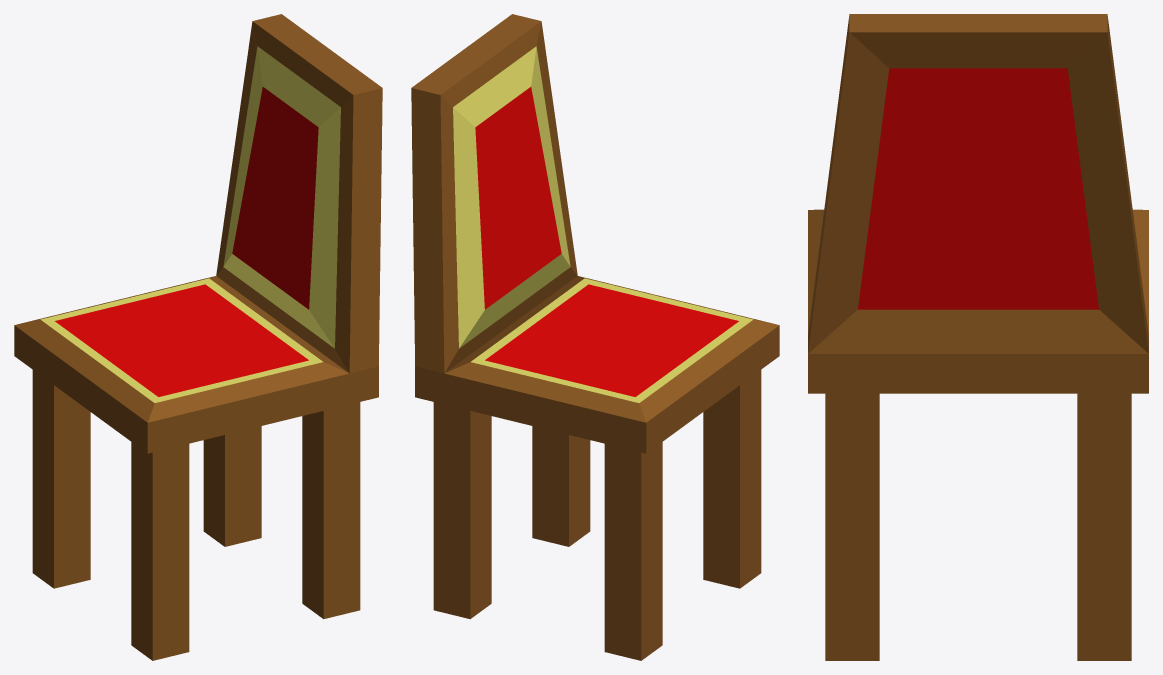
File: chair.fbx
3 views of the same model, side by side, from view 1: azimuth 30°, elevation 25°; view 2: azimuth 150°, elevation 25°; view 3: azimuth 270°, elevation 25° (orthographic). The views are drawn at different scales.
Parts seen in each view (by area): view 1: Cube.007; view 2: Cube.007; view 3: Cube.007.
Part boxes in pixels (x1,y1,x2,y2): Cube.007: (14, 14, 382, 660); Cube.007: (411, 14, 779, 660); Cube.007: (808, 14, 1148, 660).
Bounding box in the file's own units: 612 × 1183 × 563.
